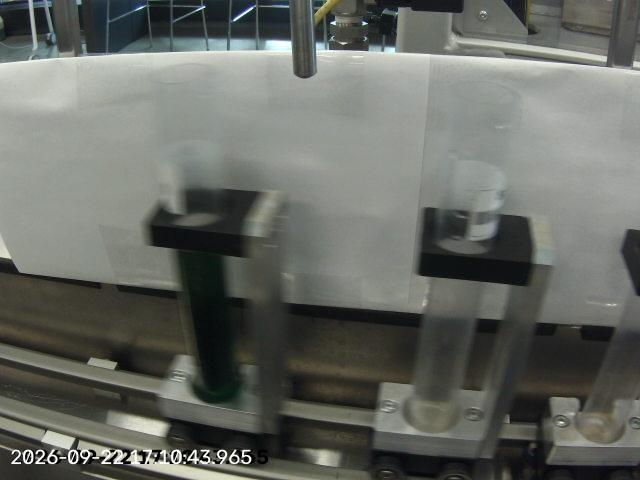vial: (405, 81, 521, 431), (146, 62, 240, 402)
